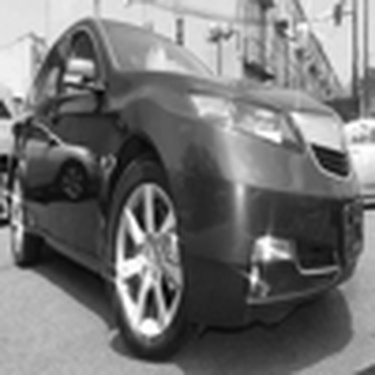car: (7, 8, 369, 360), (11, 115, 100, 206), (337, 113, 372, 209), (1, 89, 15, 227)
